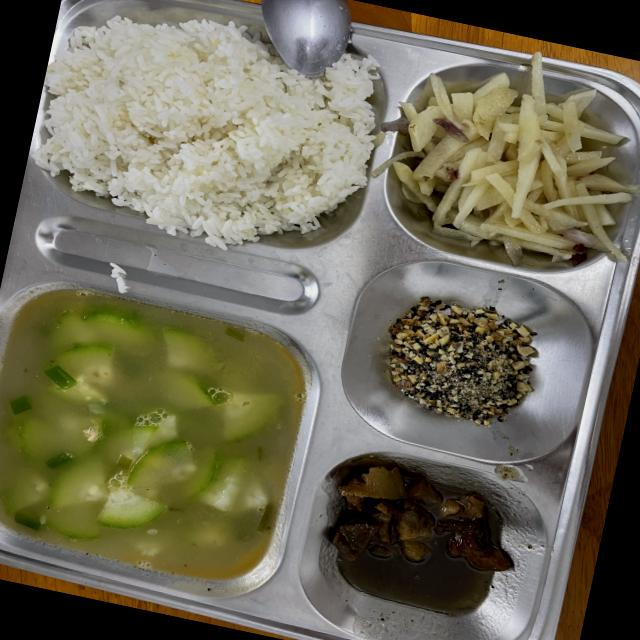canh bau: (0, 290, 308, 578)
canh cai: (214, 463, 220, 469)
com: (36, 16, 375, 249)
kho tieu: (331, 466, 513, 572)
